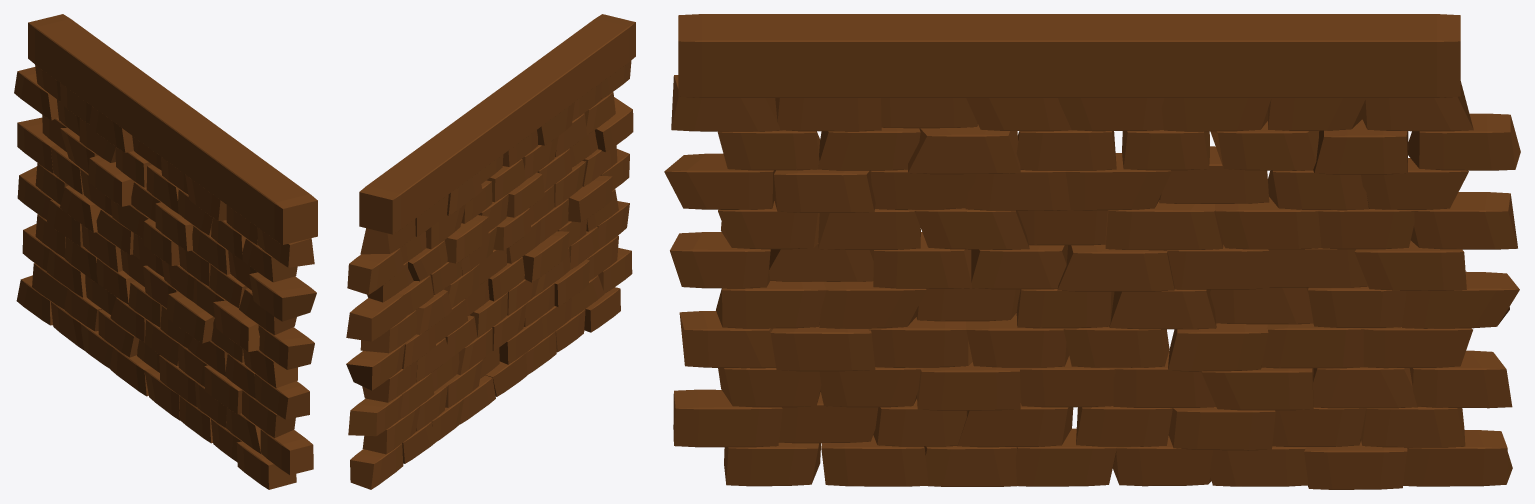
The model's file is BRICK WALL1.fbx.
3 views of the same model, side by side, from view 1: azimuth 30°, elevation 25°; view 2: azimuth 150°, elevation 25°; view 3: azimuth 270°, elevation 25° (orthographic). The views are drawn at different scales.
Visible parts, largest first — view 1: BRICK WALL; view 2: BRICK WALL; view 3: BRICK WALL.
Part boxes in pixels (<box>): BRICK WALL: <box>14,14,317,489</box>; BRICK WALL: <box>346,14,635,489</box>; BRICK WALL: <box>664,14,1520,489</box>.
Bounding box in the file's own units: 73.57 × 497 × 856.
